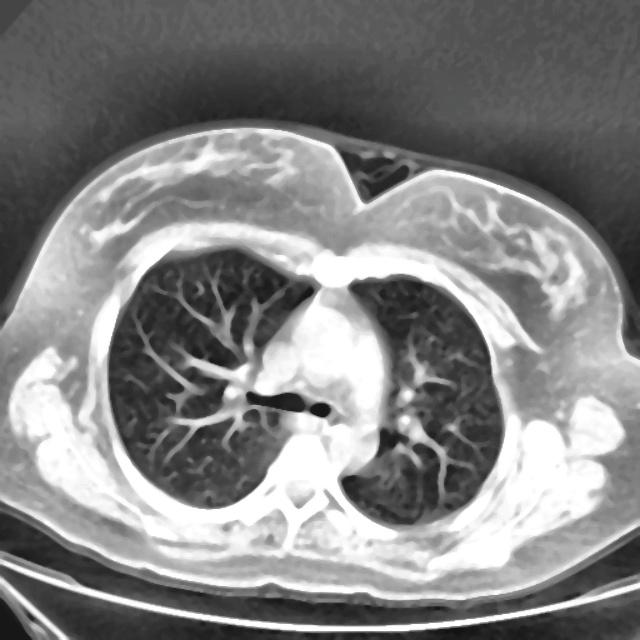covid: (1, 118, 638, 612)
